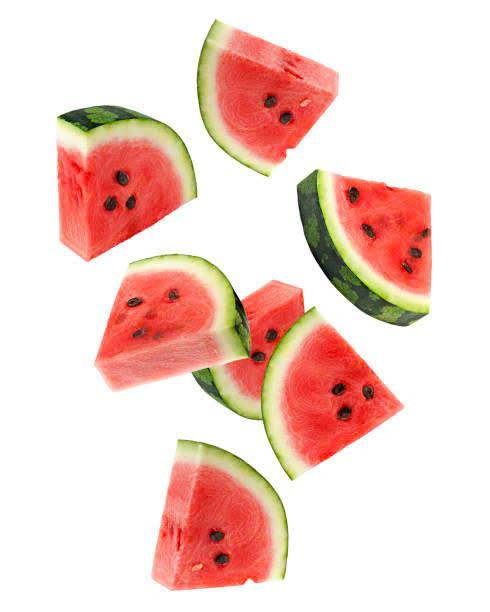watermelon: (50, 101, 206, 263), (289, 169, 446, 326), (152, 439, 300, 605), (101, 247, 250, 408), (200, 17, 339, 177)
